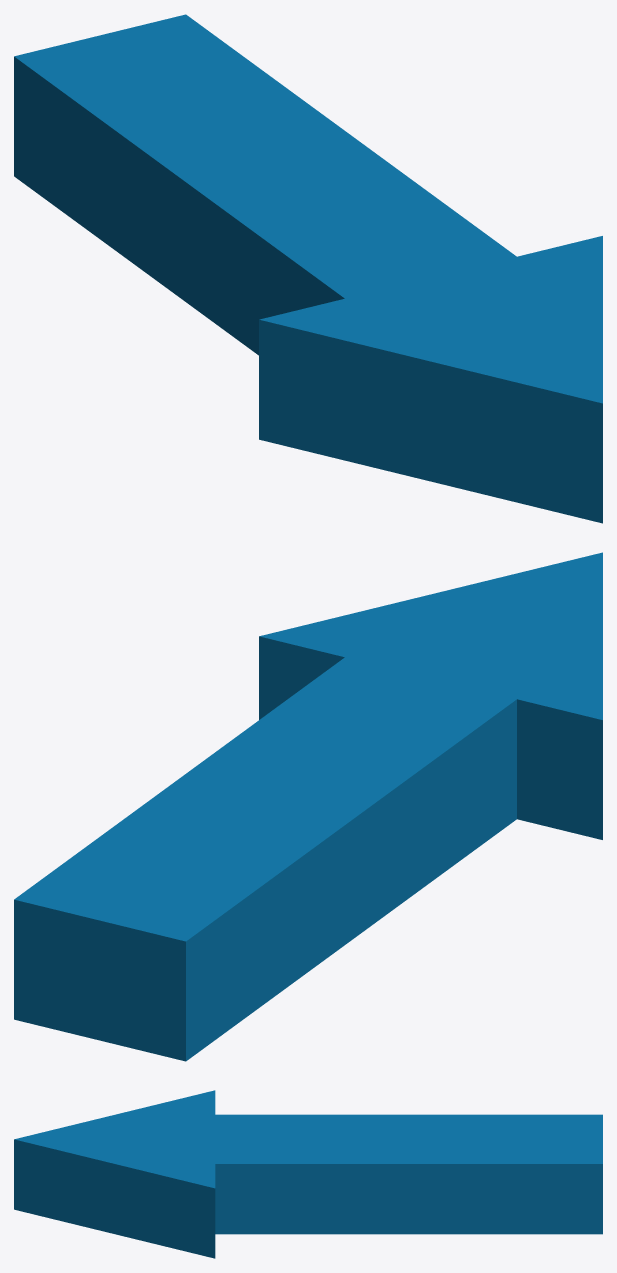
The model's file is Arrow.fbx.
3 views of the same model, one above another, from view 1: azimuth 30°, elevation 25°; view 2: azimuth 150°, elevation 25°; view 3: azimuth 270°, elevation 25° (orthographic). The views are drawn at different scales.
Parts seen in each view (by area): view 1: 填料-伸長1; view 2: 填料-伸長1; view 3: 填料-伸長1.
Boxes of the visible parts, box(x1,y1,x2,y2) form: 填料-伸長1: box(14, 14, 602, 523); 填料-伸長1: box(14, 552, 602, 1061); 填料-伸長1: box(14, 1090, 602, 1258).
Bounding box in the file's own units: 30 × 10 × 75.98.
